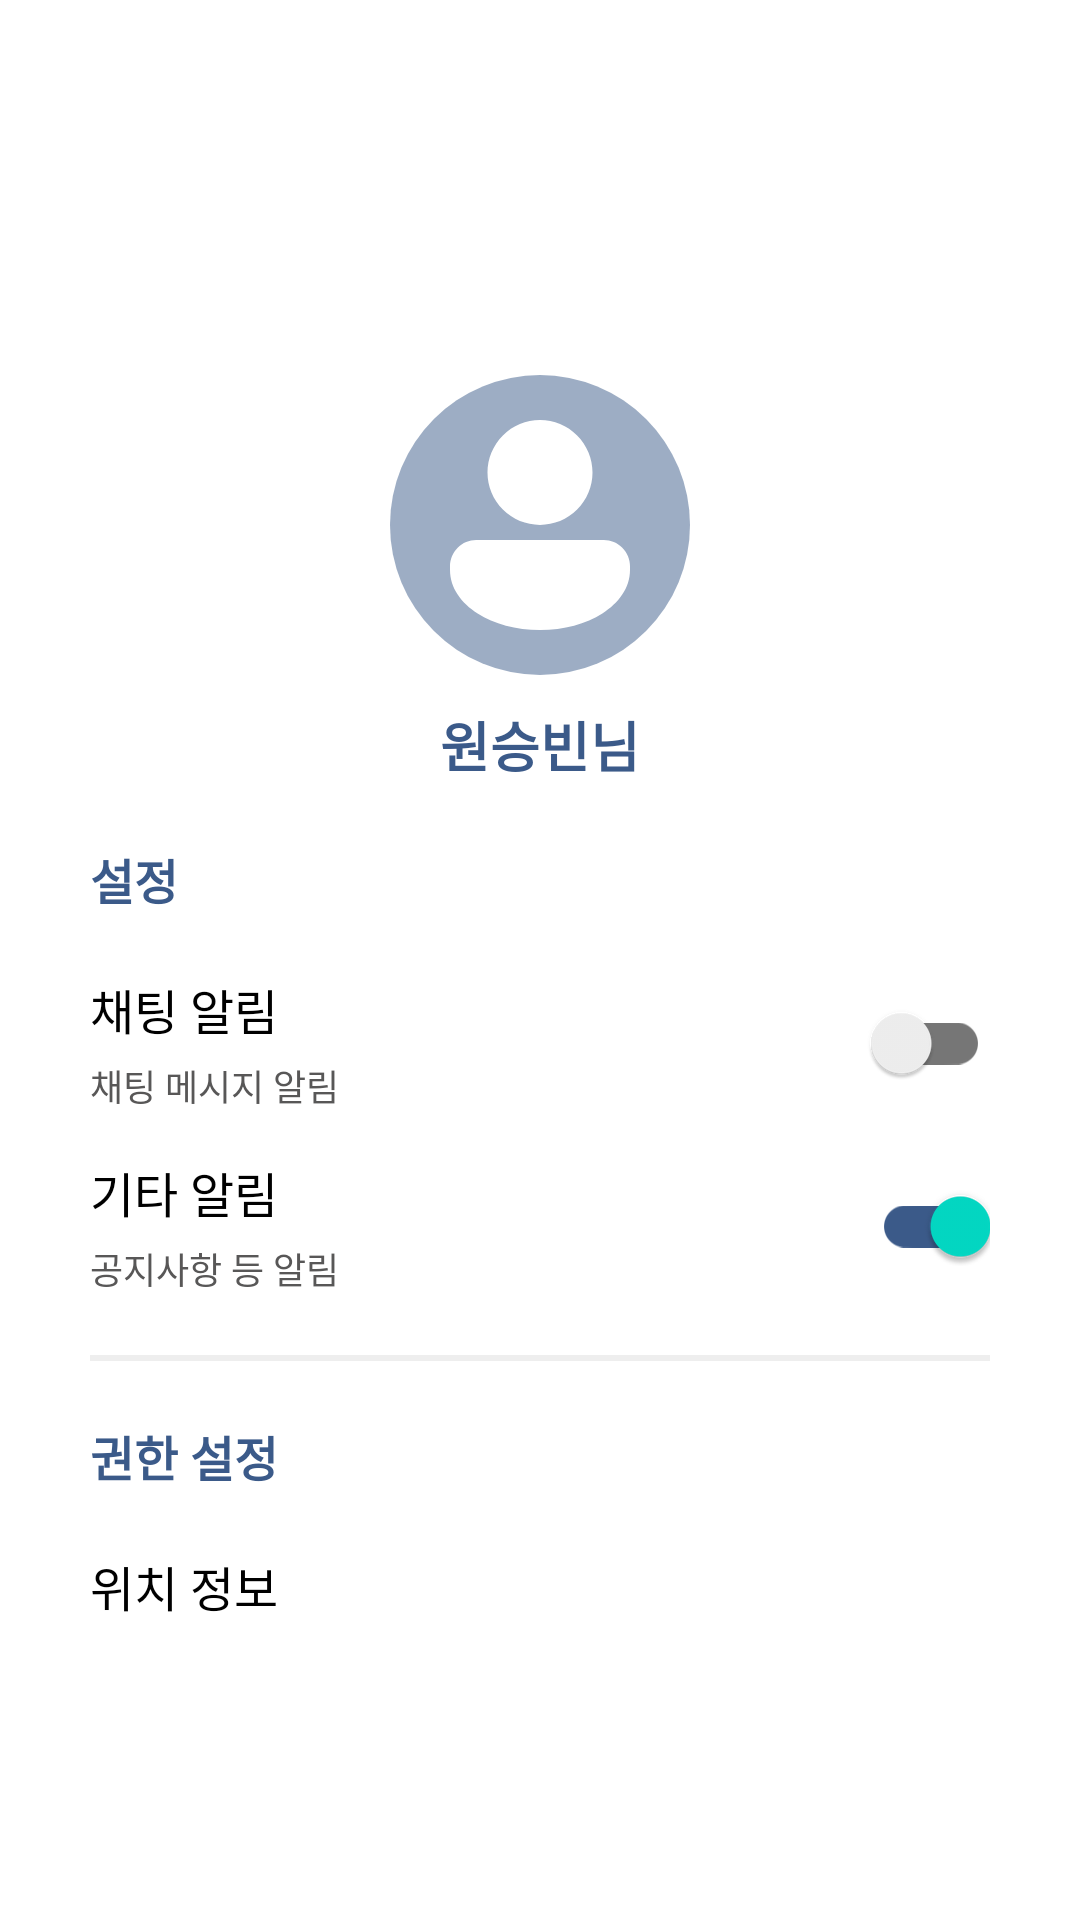

Icons on this 1080x1920 Android screen, each with its box as (x1, y1, x2, y2):
setting profile: (390, 375, 690, 675)
